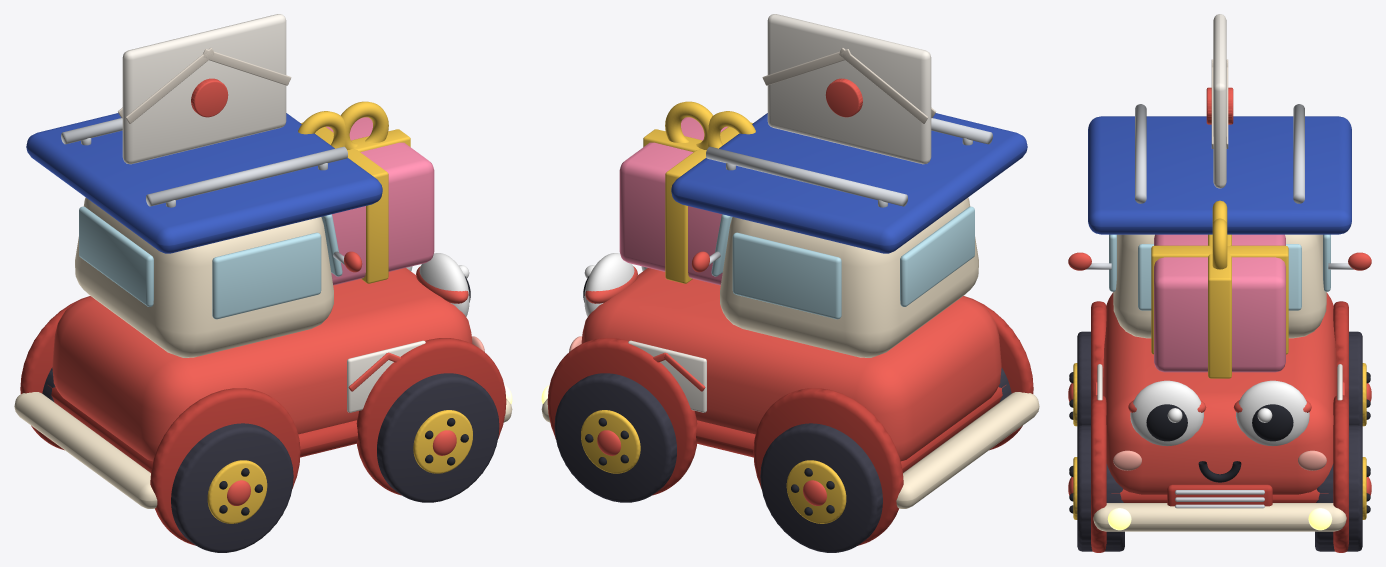
Rendered from mail_cart.glb.
3 renders of one model, left to right at view 1: azimuth 30°, elevation 25°; view 2: azimuth 150°, elevation 25°; view 3: azimuth 270°, elevation 25°, orthographic. The views are drawn at different scales.
Parts seen in each view (by area): view 1: Chassis, Roof, Envelope, Cabin, Wheel_FRTire, Wheel_RRTire, GiftBox, Arch_-0.42_-0.45, SideWindow-1, Arch_0.42_-0.45, BumperRear, RearWindow (+16 smaller); view 2: Chassis, Roof, Envelope, Cabin, Wheel_FLTire, Wheel_RLTire, GiftBox, Arch_-0.42_0.45, SideWindow1, Arch_0.42_0.45, BumperRear, RearWindow (+16 smaller); view 3: Roof, Chassis, GiftBox, BumperFront, Cabin, RibbonA, Wheel_FLTire, Wheel_FRTire, EyeLWhite, EyeRWhite, Envelope, Arch_0.42_0.45 (+24 smaller).
Part boxes in pixels (x1=…): Chassis: x1=52, y1=268, x2=472, y2=461; Roof: x1=26, y1=113, x2=382, y2=253; Envelope: x1=122, y1=14, x2=286, y2=164; Cabin: x1=75, y1=197, x2=333, y2=357; Wheel_FRTire: x1=377, y1=373, x2=499, y2=502; Wheel_RRTire: x1=171, y1=423, x2=293, y2=552; GiftBox: x1=326, y1=117, x2=434, y2=285; Arch_-0.42_-0.45: x1=150, y1=388, x2=300, y2=545; SideWindow-1: x1=212, y1=232, x2=321, y2=319; Arch_0.42_-0.45: x1=356, y1=338, x2=506, y2=495; BumperRear: x1=14, y1=392, x2=157, y2=508; RearWindow: x1=79, y1=206, x2=153, y2=306; Chassis: x1=581, y1=268, x2=1001, y2=461; Roof: x1=671, y1=113, x2=1027, y2=253; Envelope: x1=767, y1=14, x2=931, y2=164; Cabin: x1=720, y1=197, x2=978, y2=357; Wheel_FLTire: x1=554, y1=373, x2=676, y2=502; Wheel_RLTire: x1=760, y1=423, x2=882, y2=552; GiftBox: x1=619, y1=117, x2=727, y2=285; Arch_-0.42_0.45: x1=753, y1=388, x2=903, y2=545; SideWindow1: x1=732, y1=232, x2=841, y2=319; Arch_0.42_0.45: x1=547, y1=338, x2=697, y2=495; BumperRear: x1=896, y1=392, x2=1039, y2=508; RearWindow: x1=900, y1=206, x2=974, y2=306; Roof: x1=1088, y1=116, x2=1351, y2=234; Chassis: x1=1103, y1=292, x2=1336, y2=494; GiftBox: x1=1154, y1=234, x2=1285, y2=372; BumperFront: x1=1093, y1=503, x2=1346, y2=531; Cabin: x1=1113, y1=234, x2=1326, y2=338; RibbonA: x1=1208, y1=234, x2=1231, y2=378; Wheel_FLTire: x1=1315, y1=425, x2=1362, y2=551; Wheel_FRTire: x1=1077, y1=425, x2=1124, y2=551; EyeLWhite: x1=1236, y1=380, x2=1309, y2=446; EyeRWhite: x1=1130, y1=380, x2=1203, y2=446; Envelope: x1=1213, y1=14, x2=1226, y2=188; Arch_0.42_0.45: x1=1333, y1=395, x2=1348, y2=552.
Bounding box in the file's own units: 1.55 × 1.77 × 1.15.
